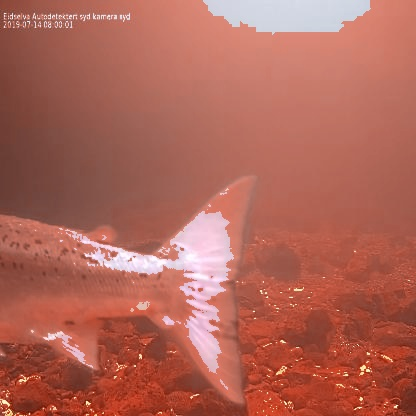salmon: (0, 174, 262, 410)
